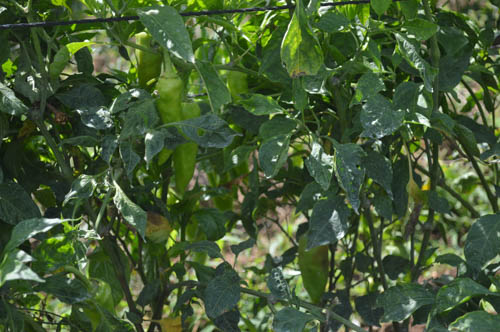ChiliPepper: (154, 75, 186, 166), (169, 101, 196, 196), (298, 238, 331, 302), (136, 35, 162, 88)
